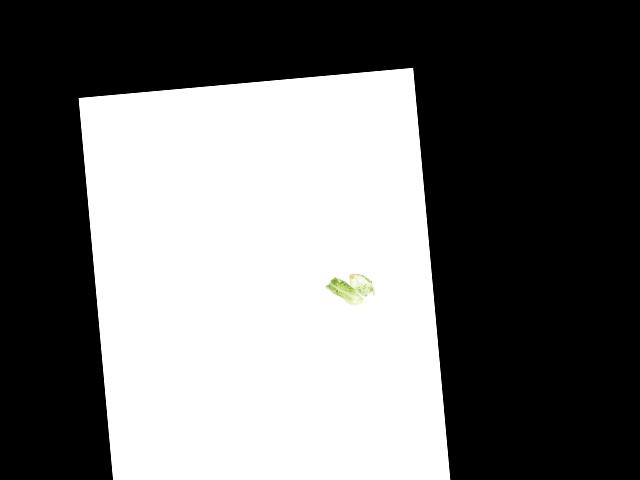lettuce: (346, 267, 376, 298)
